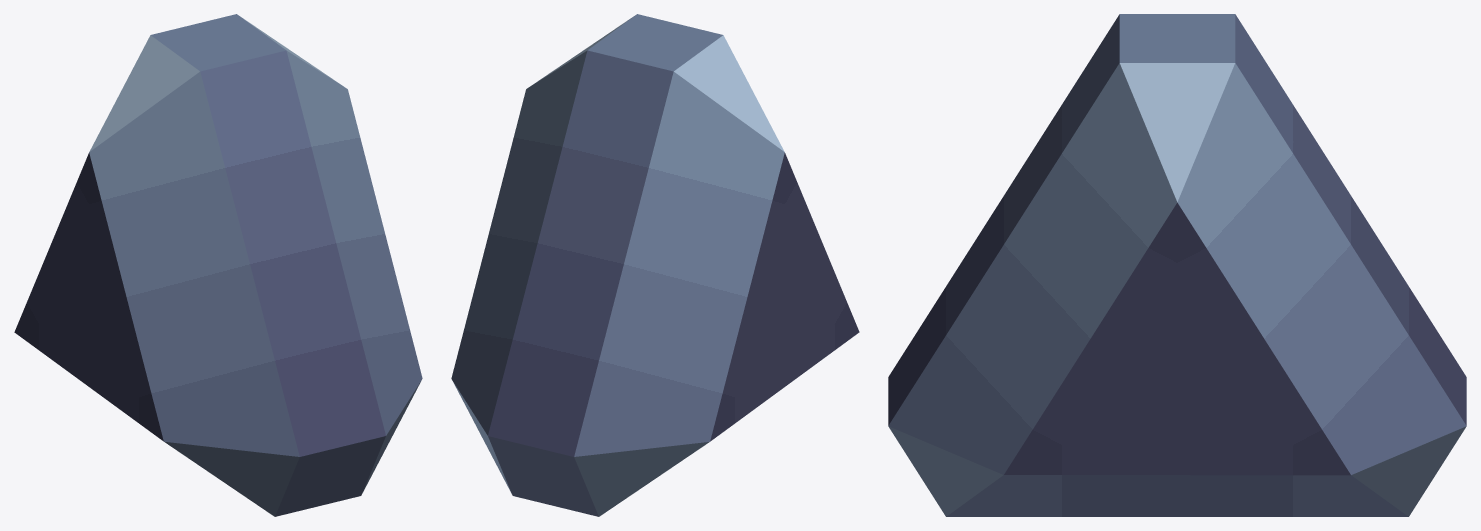
The model's file is circle_power_reagent_3.obj.
3 views of the same model, side by side, from view 1: azimuth 30°, elevation 25°; view 2: azimuth 150°, elevation 25°; view 3: azimuth 270°, elevation 25° (orthographic). The views are drawn at different scales.
Parts seen in each view (by area): view 1: REAGENT_3_Plane.002; view 2: REAGENT_3_Plane.002; view 3: REAGENT_3_Plane.002.
Part boxes in pixels (x1,y1,x2,y2): REAGENT_3_Plane.002: (14,14,422,516); REAGENT_3_Plane.002: (451,14,859,516); REAGENT_3_Plane.002: (888,14,1466,516).
Size of the model in its own units: 0.1875 by 0.2706 by 0.3125.
